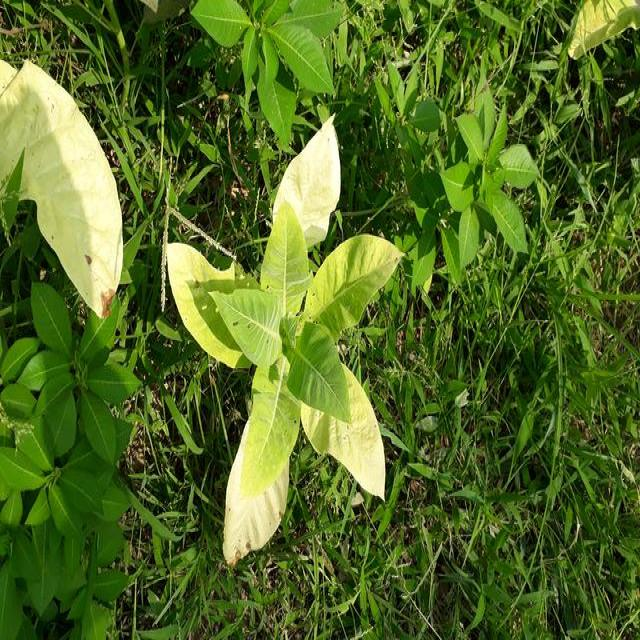crop: (165, 115, 399, 568)
